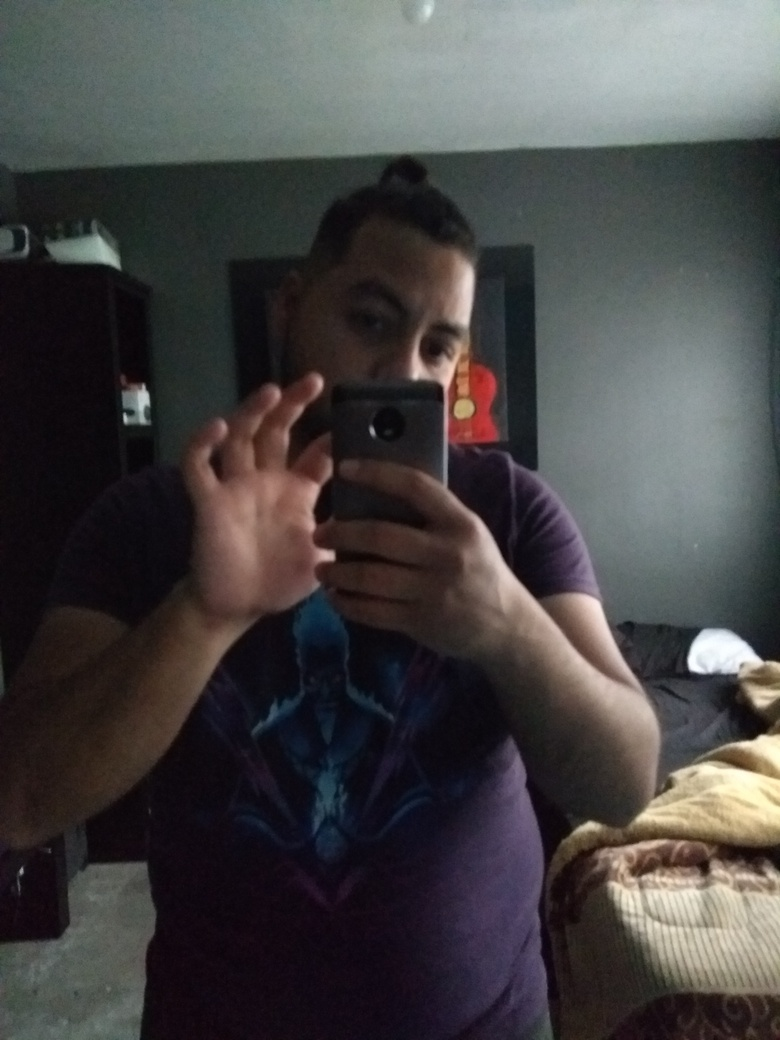Yoshi: (254, 135, 533, 484)
